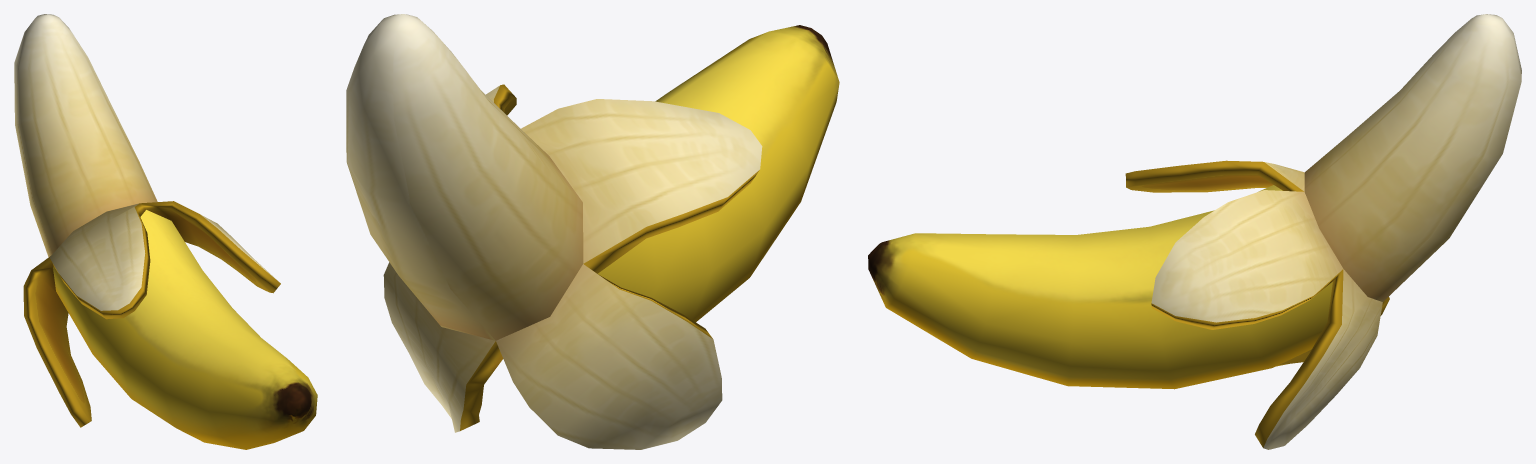
Rendered from 002-Banana_Peeled.FBX.
The picture shows the model from 3 angles, left to right: view 1: azimuth 30°, elevation 25°; view 2: azimuth 150°, elevation 25°; view 3: azimuth 270°, elevation 25°; orthographic projection. The views are drawn at different scales.
Parts seen in each view (by area): view 1: 002-Banana_Peeled; view 2: 002-Banana_Peeled; view 3: 002-Banana_Peeled.
Boxes of the visible parts, x1,y1,x2,y2 form: 002-Banana_Peeled: (14, 14, 317, 449); 002-Banana_Peeled: (346, 14, 839, 449); 002-Banana_Peeled: (868, 14, 1521, 449).
Bounding box in the file's own units: 10.21 × 15.76 × 23.24.
